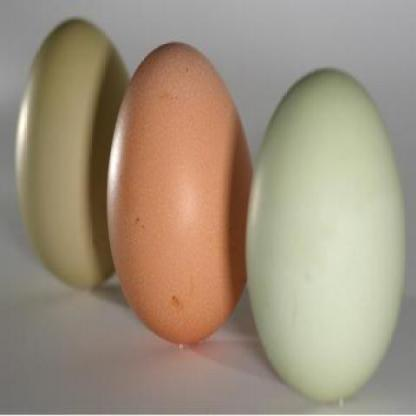egg: (239, 53, 415, 415), (96, 15, 260, 346), (5, 3, 136, 316)
